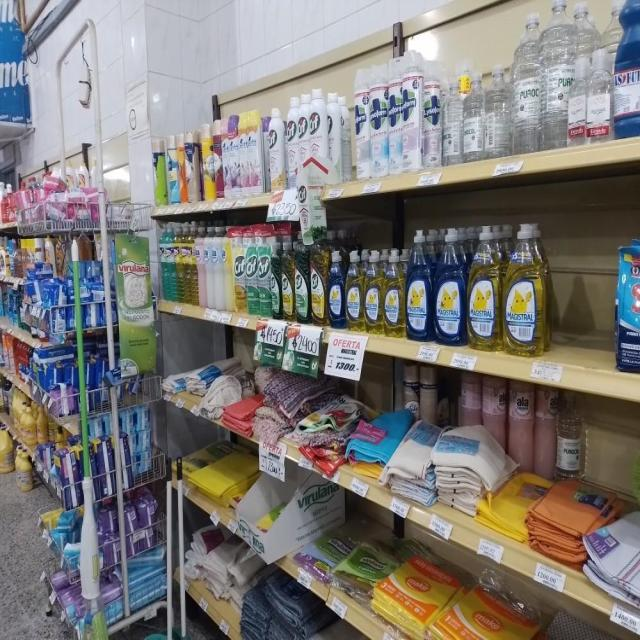ala_crem_rosado: (508, 378, 534, 472), (534, 385, 556, 479), (482, 374, 507, 449)
cif_conc_bot_amarilla: (310, 231, 327, 326), (281, 236, 294, 321)
cif_conc_botella_verde: (295, 232, 309, 324), (270, 228, 280, 318)
cif_conc_sachet_amarillo: (233, 225, 246, 314), (246, 224, 258, 316)
cif_conc_sachet_verde: (258, 224, 271, 318)
magistral_con_amarillo: (503, 222, 547, 357), (468, 224, 502, 352), (384, 247, 404, 338), (364, 248, 383, 334), (346, 249, 364, 332)
magistral_con_azul: (434, 226, 466, 346), (406, 228, 432, 342), (328, 249, 345, 329)
